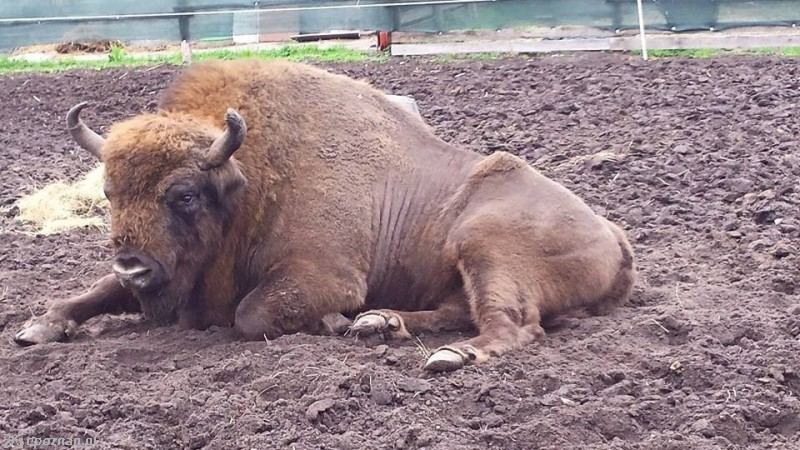zubr: (18, 22, 673, 425)
